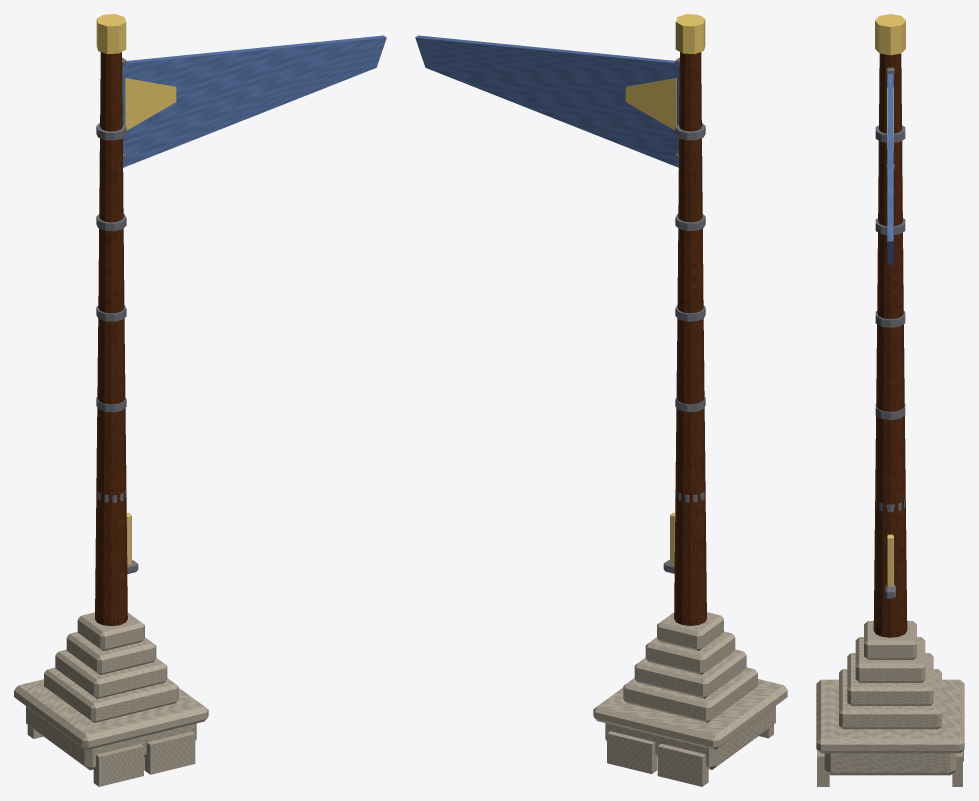
The model's file is fantasy-mmo-city-and-townsfolk-pennant-pole-27a7745f__32781.glb.
The picture shows the model from 3 angles, left to right: view 1: azimuth 30°, elevation 25°; view 2: azimuth 150°, elevation 25°; view 3: azimuth 270°, elevation 25°; orthographic projection.
Visible parts, largest first — view 1: pennant-pole, pennant/blue, pennant/gold; view 2: pennant-pole, pennant/blue, pennant/gold; view 3: pennant-pole, pennant/blue.
Part boxes in pixels (x1,y1,x2,y2): pennant-pole: (14,14,208,786); pennant/blue: (122,35,386,167); pennant/gold: (125,78,176,130); pennant-pole: (593,14,787,786); pennant/blue: (415,35,679,167); pennant/gold: (625,78,676,130); pennant-pole: (816,14,964,786); pennant/blue: (887,73,893,264).
Bounding box in the file's own units: 3.31 × 6.84 × 1.24.
Materials: 6 (3 with a texture image).
